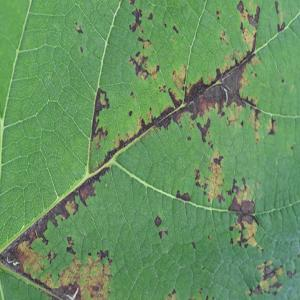Folha: (0, 0, 299, 299)
Fungo: (128, 5, 160, 81), (228, 177, 260, 248), (248, 259, 283, 296), (206, 148, 225, 204), (128, 56, 148, 80), (78, 179, 95, 206), (171, 64, 187, 90), (129, 7, 143, 33), (196, 116, 210, 142), (154, 214, 168, 239), (94, 125, 108, 149), (226, 178, 239, 196), (65, 199, 78, 215), (137, 35, 151, 49), (267, 116, 276, 135), (176, 189, 190, 201), (46, 249, 57, 264), (6, 255, 20, 266), (194, 168, 201, 188), (220, 30, 228, 44), (236, 0, 244, 14), (158, 228, 168, 239), (74, 21, 82, 34), (146, 106, 152, 123), (154, 214, 162, 226), (277, 21, 285, 32), (274, 0, 279, 14), (129, 22, 136, 32), (159, 84, 166, 93), (172, 24, 178, 34), (216, 9, 221, 20), (147, 12, 153, 20), (128, 0, 135, 5), (79, 45, 83, 53), (130, 90, 134, 98), (191, 241, 195, 248), (128, 110, 132, 116), (164, 22, 167, 27)
